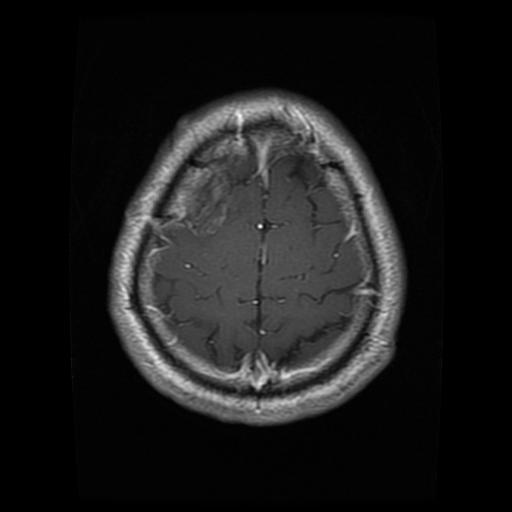Gliomia_tumour: (186, 154, 255, 234)
